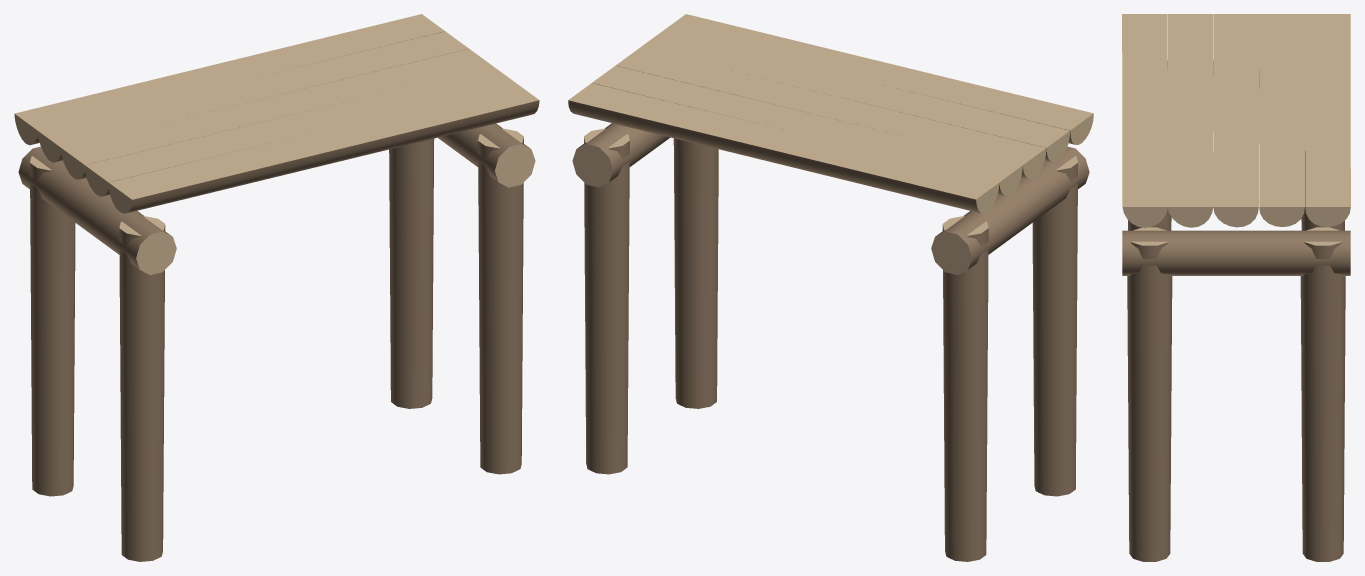
Rendered from log_foundation_half.glb.
3 views of the same model, side by side, from view 1: azimuth 30°, elevation 25°; view 2: azimuth 150°, elevation 25°; view 3: azimuth 270°, elevation 25° (orthographic). The views are drawn at different scales.
Parts seen in each view (by area): view 1: Foundation; view 2: Foundation; view 3: Foundation.
Boxes of the visible parts, x1,y1,x2,y2 form: Foundation: (14, 14, 539, 561); Foundation: (568, 14, 1093, 561); Foundation: (1122, 14, 1350, 561).
Size of the model in its own units: 3 by 2.6 by 1.5.
